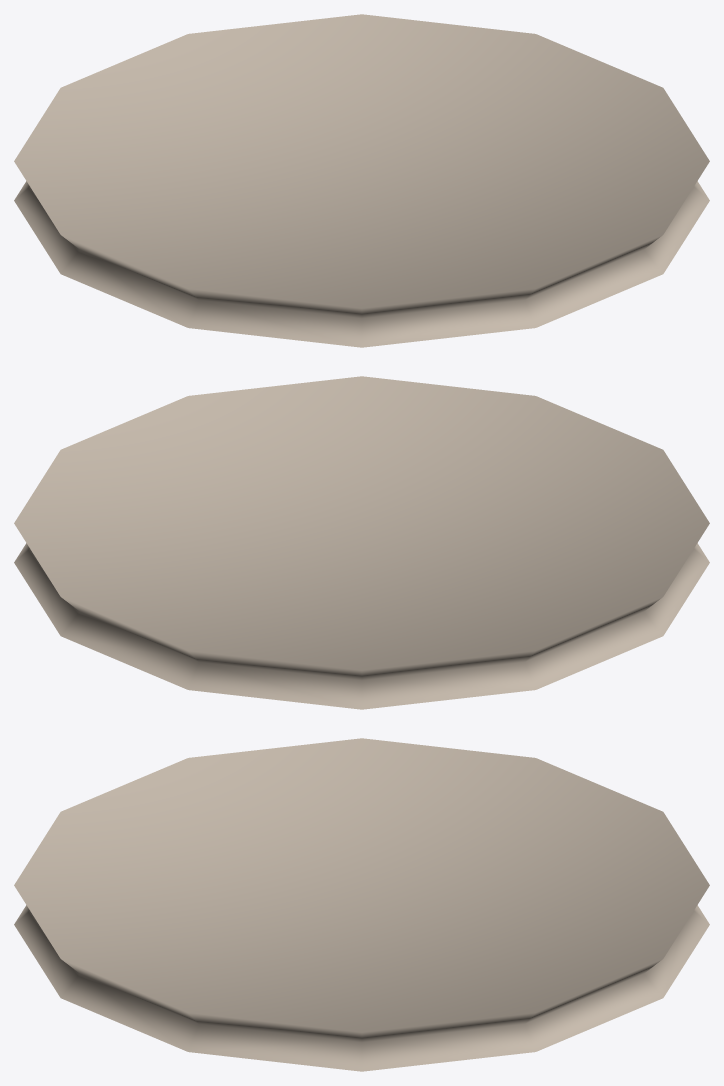
File: plate.glb
3 views of the same model, one above another, from view 1: azimuth 30°, elevation 25°; view 2: azimuth 150°, elevation 25°; view 3: azimuth 270°, elevation 25° (orthographic).
Visible parts, largest first — view 1: plate; view 2: plate; view 3: plate.
Part boxes in pixels (bbox=[...]): plate: bbox=[14, 14, 709, 347]; plate: bbox=[14, 376, 709, 709]; plate: bbox=[14, 738, 709, 1071].
Size of the model in its own units: 0.3207 by 0.02 by 0.3207.
1 material, 1 textured.
